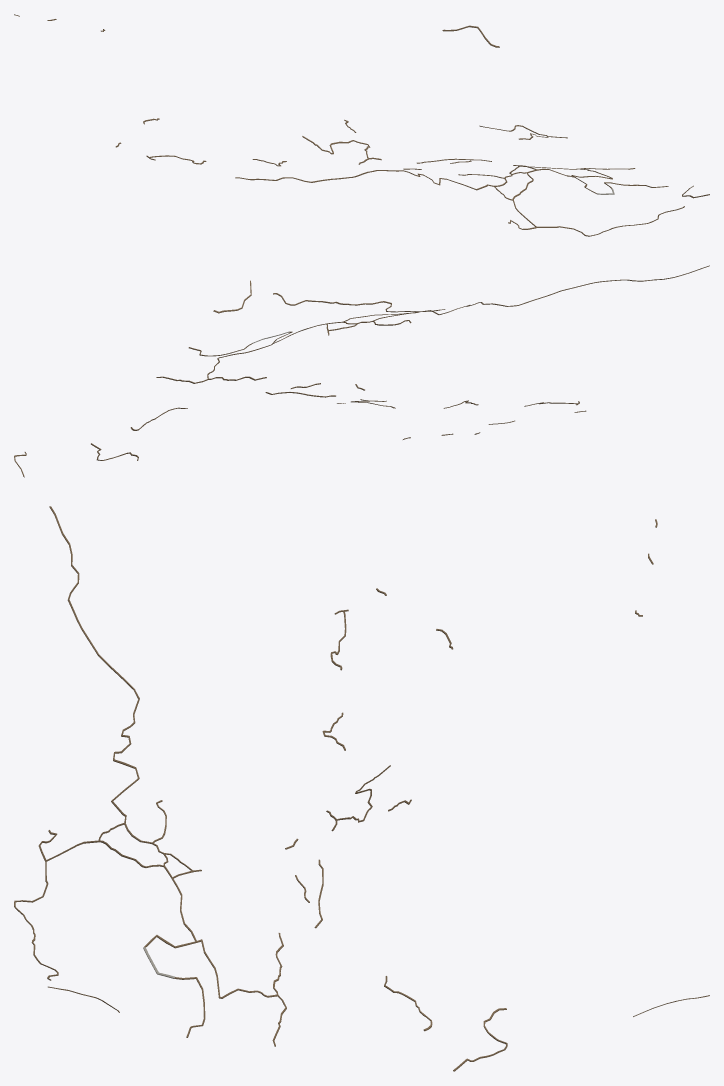
The picture shows the model from 3 angles, top to bottom: view 1: azimuth 30°, elevation 25°; view 2: azimuth 150°, elevation 25°; view 3: azimuth 270°, elevation 25°; orthographic projection. The views are drawn at different scales.
Size of the model in its own units: 587 by 220 by 551.
